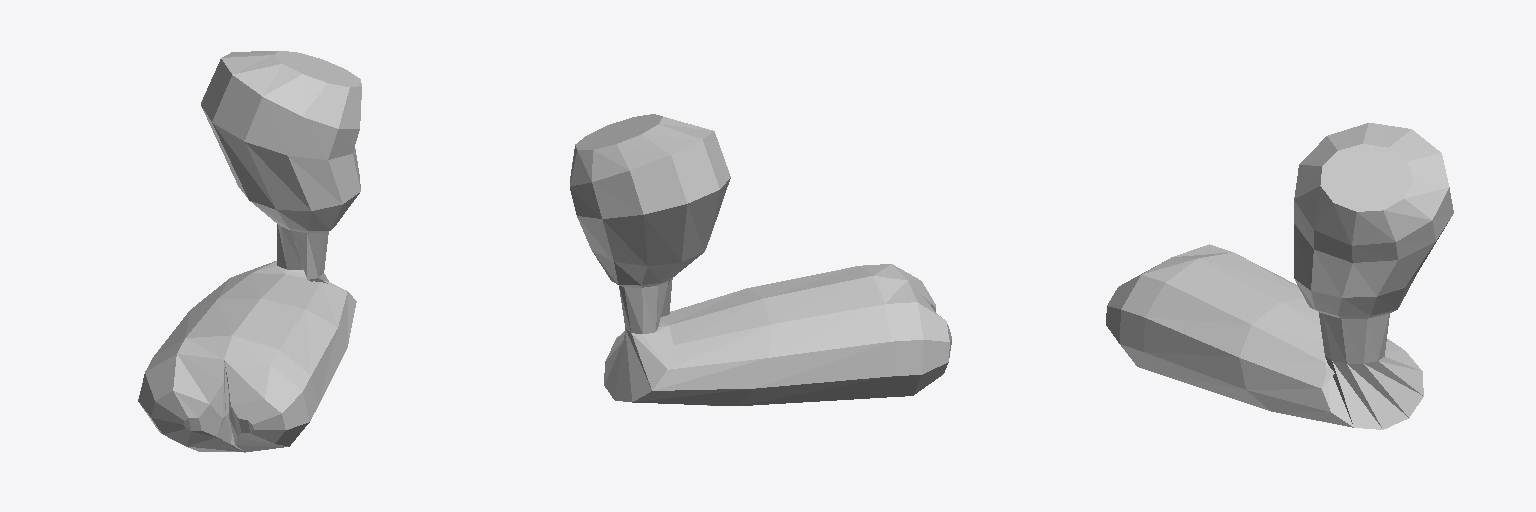
File: pierna_R.obj
3 renders of one model, left to right at view 1: azimuth 30°, elevation 25°; view 2: azimuth 150°, elevation 25°; view 3: azimuth 270°, elevation 25°, orthographic.
Parts seen in each view (by area): view 1: Cylinder; view 2: Cylinder; view 3: Cylinder.
Part boxes in pixels (x1,y1,x2,y2): Cylinder: (138,51,361,452); Cylinder: (570,114,951,405); Cylinder: (1106,123,1453,429).
Size of the model in its own units: 0.9761 by 0.9486 by 1.03.